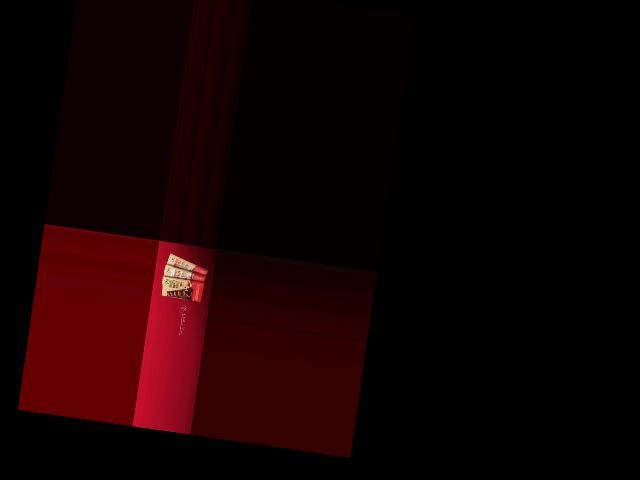chocolate: (162, 252, 211, 280)
